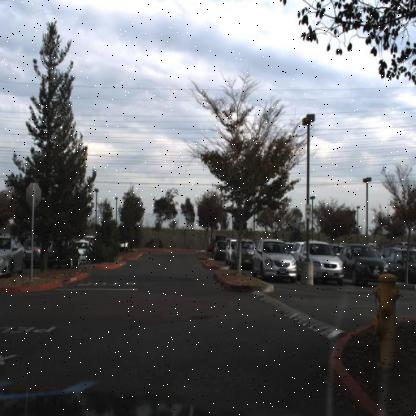car: (252, 238, 297, 282), (341, 243, 388, 284), (300, 242, 344, 284), (0, 236, 26, 280), (386, 246, 416, 284), (0, 236, 27, 278), (47, 238, 79, 268), (229, 235, 256, 270), (230, 240, 254, 269), (25, 236, 43, 272), (22, 242, 43, 272), (74, 238, 92, 266), (222, 236, 236, 264), (212, 238, 227, 262), (77, 240, 89, 264), (214, 241, 229, 259)
